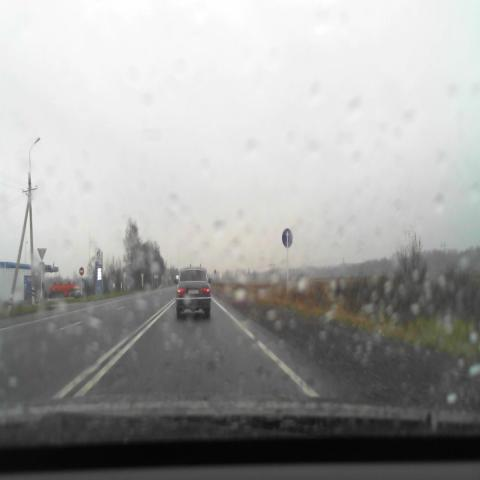4_1_1: (282, 228, 292, 248)
